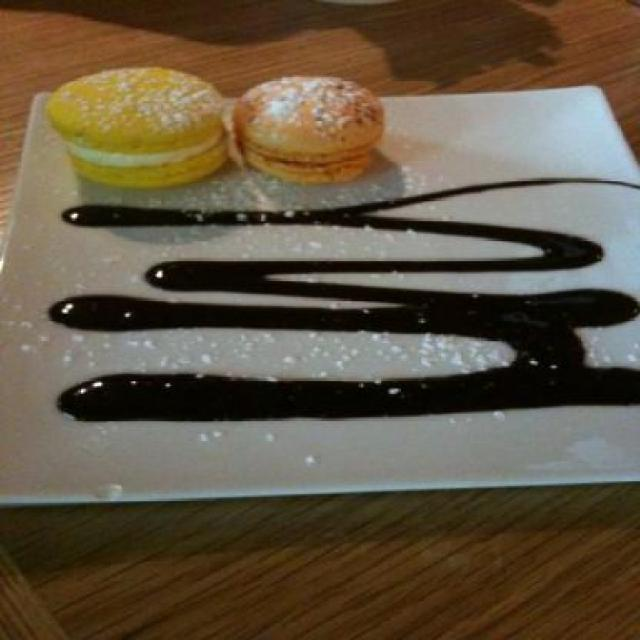Macaron: (41, 60, 398, 189)
